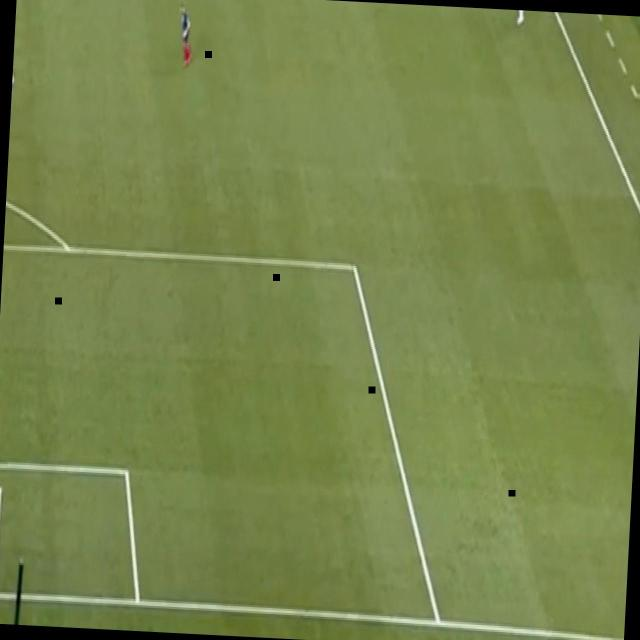player-white: (175, 0, 196, 72), (510, 10, 529, 28)
